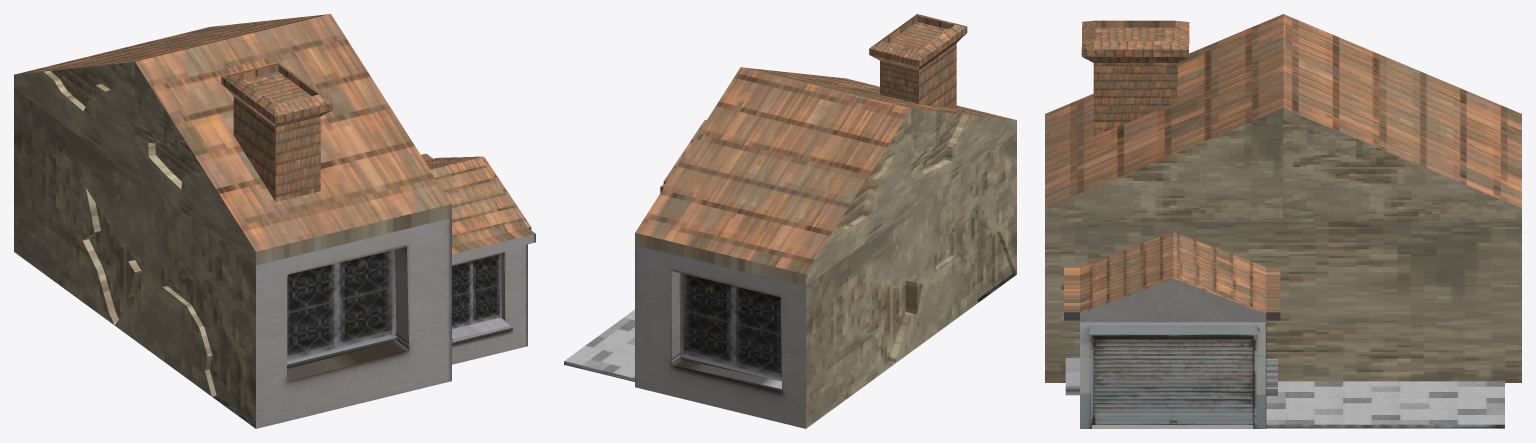
Rendered from House14.fbx.
3 views of the same model, side by side, from view 1: azimuth 30°, elevation 25°; view 2: azimuth 150°, elevation 25°; view 3: azimuth 270°, elevation 25° (orthographic). The views are drawn at different scales.
Parts seen in each view (by area): view 1: Cube.002; view 2: Cube.002; view 3: Cube.002.
Boxes of the visible parts, x1,y1,x2,y2 form: Cube.002: [14, 14, 535, 428]; Cube.002: [564, 14, 1016, 428]; Cube.002: [1045, 14, 1521, 428].
Size of the model in its own units: 2831 by 2677 by 3956.
Materials: 4 (4 with a texture image).
